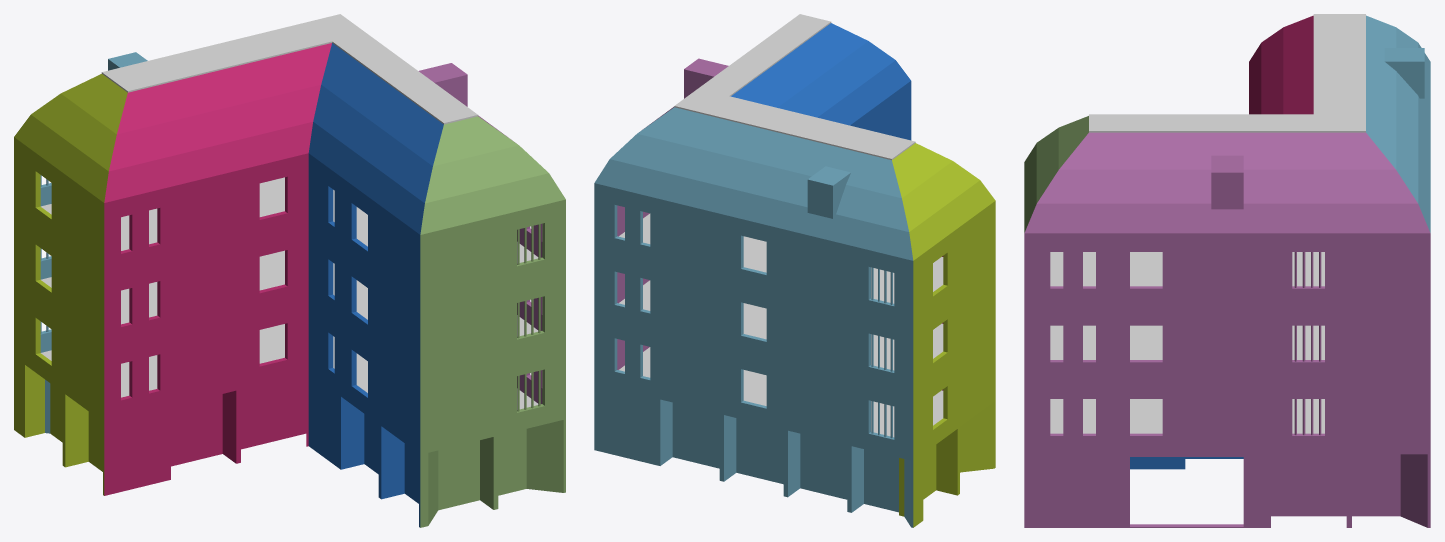
3 renders of one model, left to right at view 1: azimuth 30°, elevation 25°; view 2: azimuth 150°, elevation 25°; view 3: azimuth 270°, elevation 25°, orthographic. The views are drawn at different scales.
Parts seen in each view (by area): view 1: Building; view 2: Building; view 3: Building.
Part boxes in pixels (left/top/right/bottom): Building: left=14, top=14, right=565, bottom=527; Building: left=594, top=14, right=995, bottom=527; Building: left=1024, top=14, right=1430, bottom=527.
Bounding box in the file's own units: 5 × 5.02 × 5.
